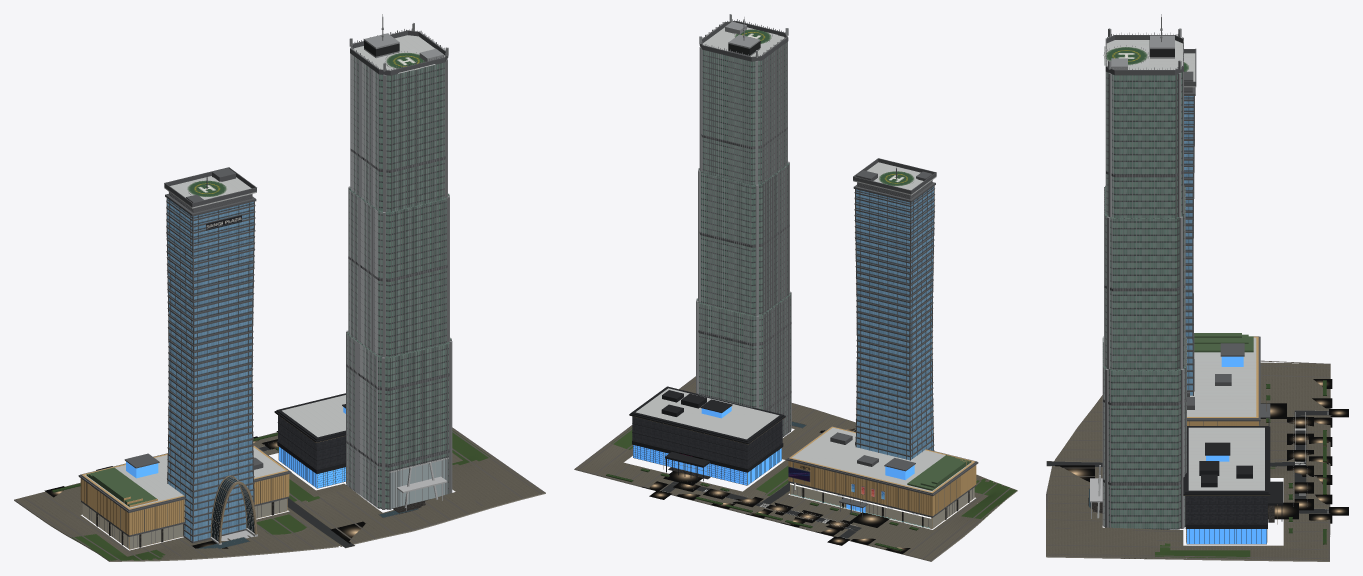
3 renders of one model, left to right at view 1: azimuth 30°, elevation 25°; view 2: azimuth 150°, elevation 25°; view 3: azimuth 270°, elevation 25°, orthographic. The views are drawn at different scales.
Parts seen in each view (by area): view 1: FIN_Tower_Fins, FIN_Tower_Glass, SANQI_Tower_Glass, SANQI_Tower_Structure, SITE_TW_plaza, FIN_Tower_Bands, SANQI_Podium_Flutes, SITE_TW_lawn, SITE_TW_dark, SANQI_Podium_Metal, FIN_Podium, FIN_Base_Glass (+16 smaller); view 2: FIN_Tower_Fins, FIN_Tower_Glass, SANQI_Tower_Glass, SANQI_Tower_Structure, SITE_TW_plaza, FIN_Podium_Metal, FIN_Podium, FIN_Tower_Bands, SANQI_Podium_Flutes, SANQI_Podium_Roof, SITE_TW_pool, SANQI_Podium_Metal (+12 smaller); view 3: FIN_Tower_Glass, FIN_Tower_Fins, SITE_TW_plaza, FIN_Tower_Bands, SITE_TW_pool, FIN_Podium_Roof, SANQI_Podium_Roof, FIN_Podium_Metal, SITE_TW_dark, FIN_Podium, SANQI_Tower_Structure, SANQI_Tower_Glass (+11 smaller).
Part boxes in pixels (box(x1,y1,x2,y2)): FIN_Tower_Fins: box(346, 14, 452, 509); FIN_Tower_Glass: box(347, 56, 451, 509); SANQI_Tower_Glass: box(167, 198, 253, 541); SANQI_Tower_Structure: box(164, 167, 256, 543); SITE_TW_plaza: box(16, 429, 545, 560); FIN_Tower_Bands: box(346, 30, 449, 503); SANQI_Podium_Flutes: box(83, 475, 285, 534); SITE_TW_lawn: box(72, 430, 490, 560); SITE_TW_dark: box(14, 427, 545, 560); SANQI_Podium_Metal: box(78, 444, 291, 548); FIN_Podium: box(278, 415, 345, 469); FIN_Base_Glass: box(390, 459, 447, 508); FIN_Tower_Fins: box(696, 14, 791, 437); FIN_Tower_Glass: box(697, 43, 790, 436); SANQI_Tower_Glass: box(856, 186, 933, 460); SANQI_Tower_Structure: box(853, 158, 936, 460); SITE_TW_plaza: box(576, 378, 1015, 560); FIN_Podium_Metal: box(629, 386, 785, 484); FIN_Podium: box(632, 416, 782, 468); FIN_Tower_Bands: box(698, 21, 791, 410); SANQI_Podium_Flutes: box(809, 466, 974, 515); SANQI_Podium_Roof: box(792, 427, 972, 491); SITE_TW_pool: box(641, 428, 910, 553); SANQI_Podium_Metal: box(786, 426, 978, 527); FIN_Tower_Glass: box(1103, 72, 1186, 529); FIN_Tower_Fins: box(1102, 14, 1186, 529); SITE_TW_plaza: box(1046, 362, 1330, 560); FIN_Tower_Bands: box(1103, 35, 1186, 523); SITE_TW_pool: box(1055, 379, 1348, 523); FIN_Podium_Roof: box(1188, 427, 1264, 490); SANQI_Podium_Roof: box(1187, 337, 1256, 416); FIN_Podium_Metal: box(1183, 426, 1283, 543); SITE_TW_dark: box(1046, 360, 1330, 560); FIN_Podium: box(1186, 496, 1267, 524); SANQI_Tower_Structure: box(1184, 48, 1196, 395); SANQI_Tower_Glass: box(1184, 96, 1193, 395).
Bounding box in the file's own units: 287 × 329 × 181.
Materials: 42 (25 with a texture image).
